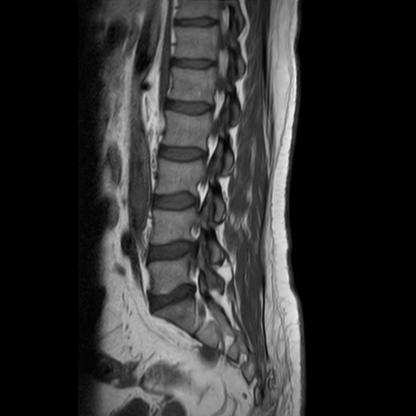Disc Bulgerotation: (143, 237, 201, 268), (143, 282, 202, 312)
